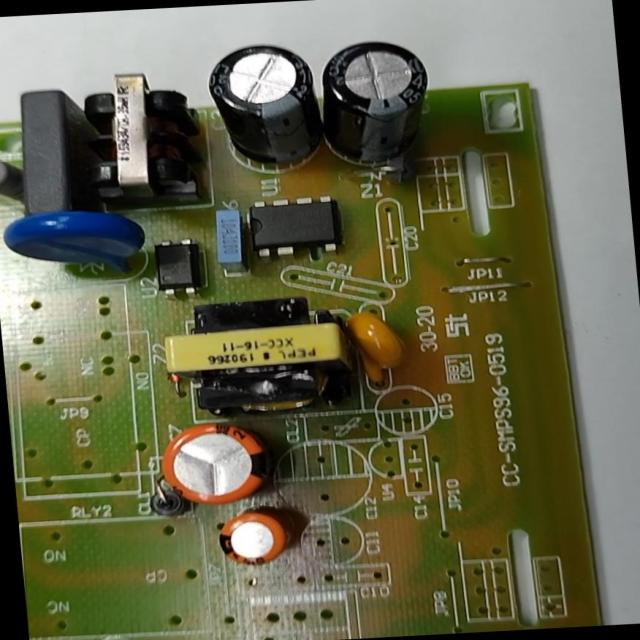Cap1: (149, 416, 279, 513)
Cap2: (207, 505, 306, 573)
Cap3: (194, 39, 330, 178)
Cap4: (305, 36, 439, 181)
MOSFET: (241, 193, 346, 262)
Mov: (0, 204, 153, 286)
Resistor: (0, 151, 32, 210)
Transformer: (154, 292, 363, 420), (72, 65, 211, 210)
